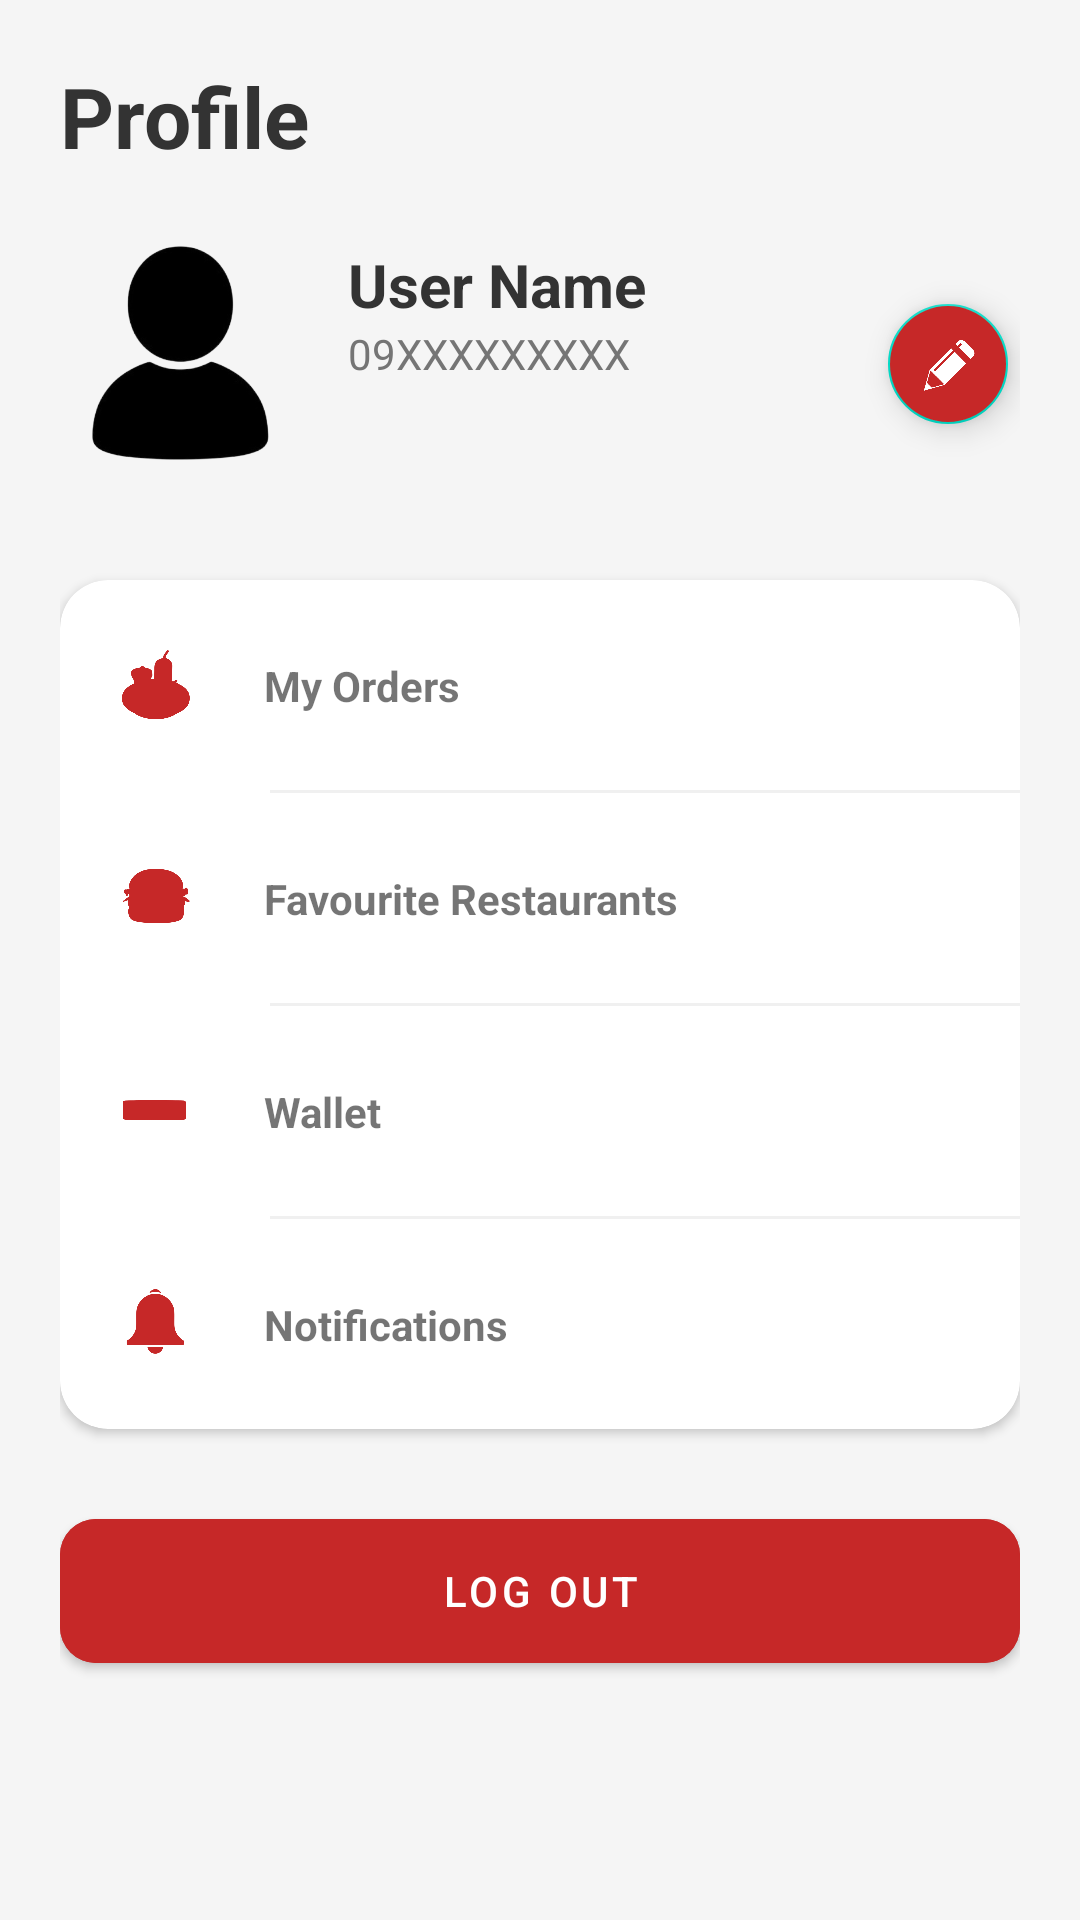

Where to tap for icons on this 1080 × 1920 app screen, as (x,y):
burger: (156,896)
meal: (156,684)
pencil: (949,365)
